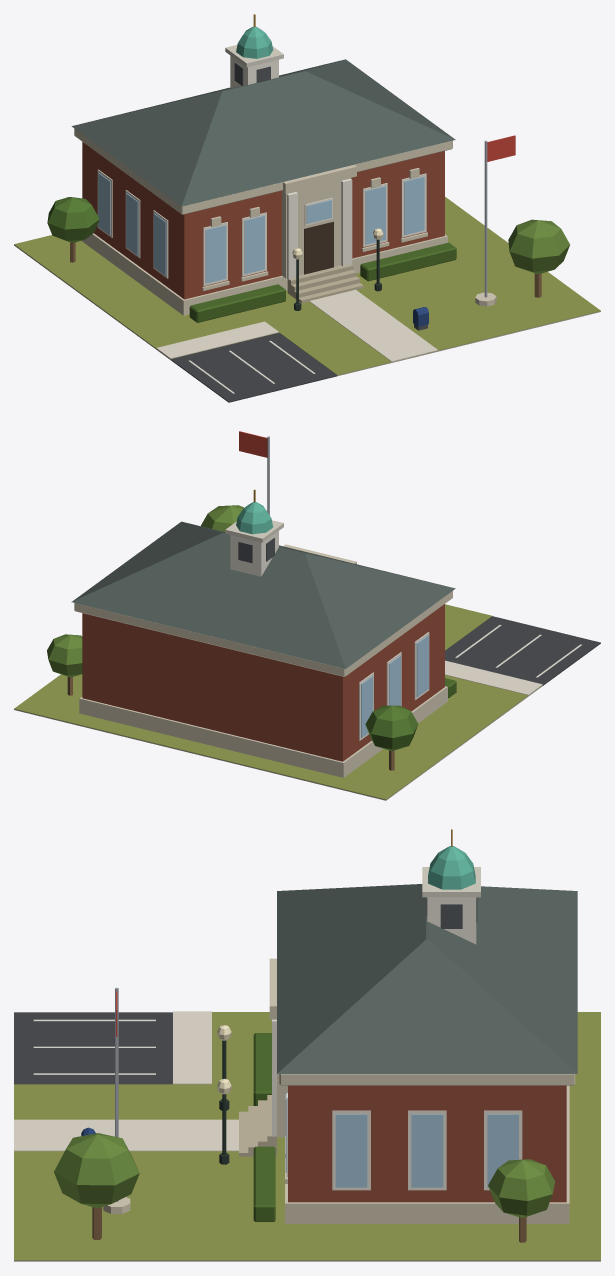
Rendered from postoffice.glb.
3 views of the same model, one above another, from view 1: azimuth 30°, elevation 25°; view 2: azimuth 150°, elevation 25°; view 3: azimuth 270°, elevation 25° (orthographic). The views are drawn at different scales.
Visible parts, largest first — view 1: postoffice; view 2: postoffice; view 3: postoffice.
Boxes of the visible parts, x1,y1,x2,y2 form: postoffice: (14,14,600,402); postoffice: (14,431,600,800); postoffice: (14,829,600,1261).
Bounding box in the file's own units: 24 × 13.9 × 24.
